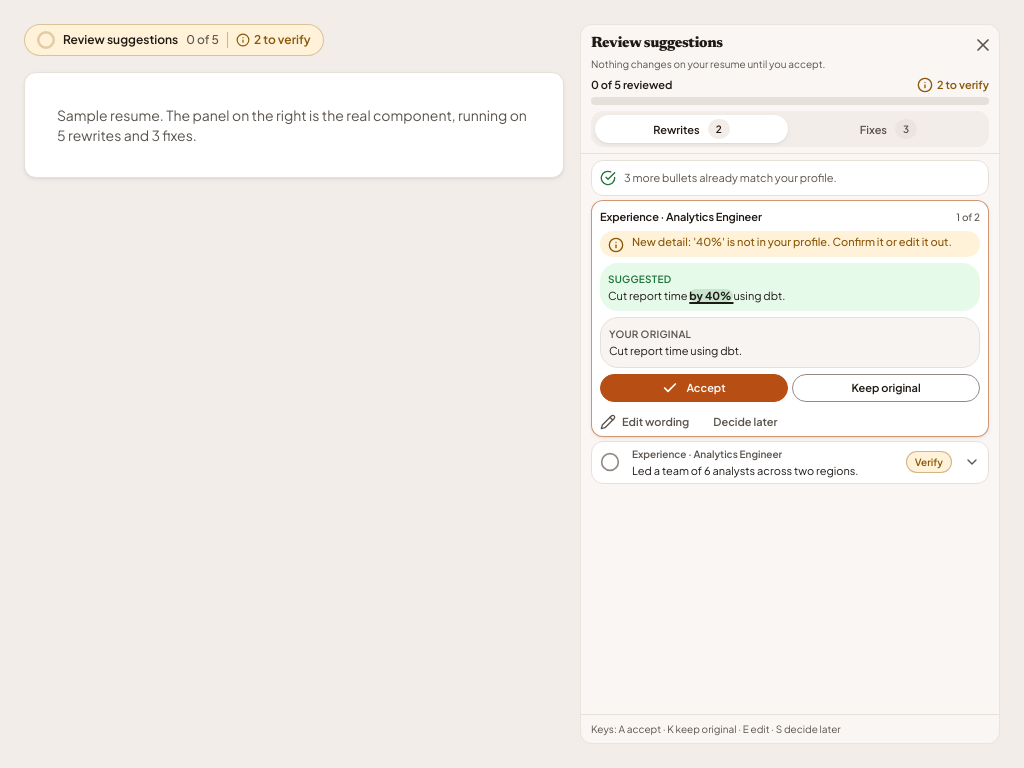
Test: ReviewPanel › Keep original puts the candidate's wording back, and Undo re-opens the card
Click the button "Keep original". click: [886, 388]
box: [792, 374, 980, 402]
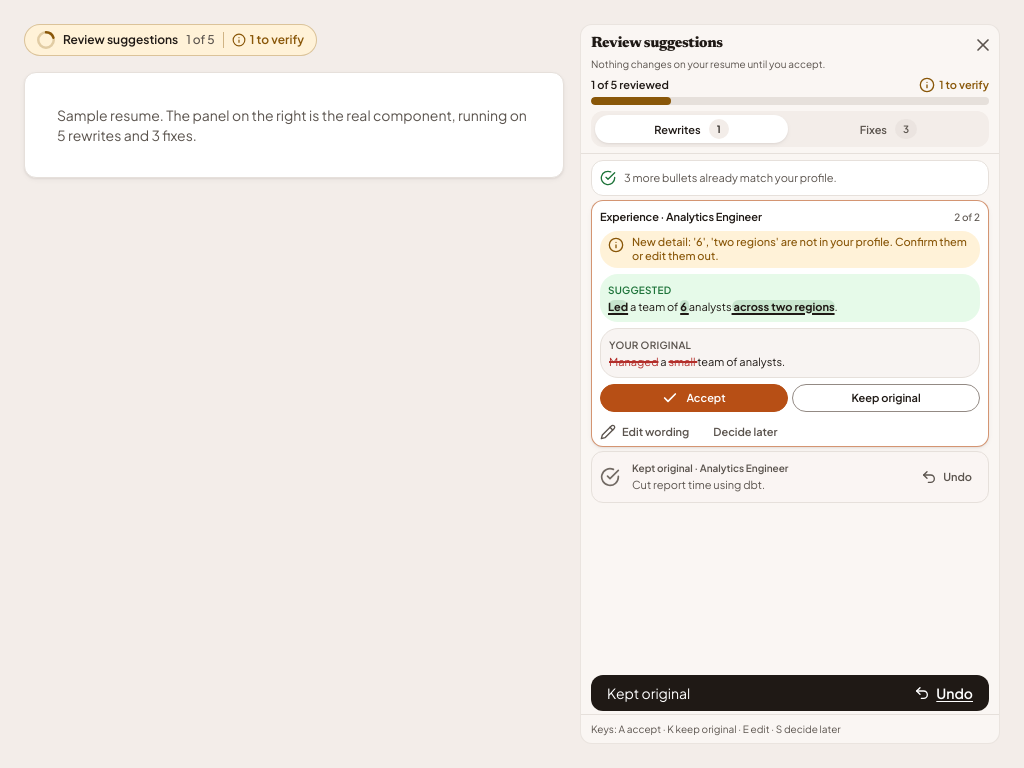
Expected: the text "Cut report time using dbt." is shown, [632, 478, 765, 491]
Expected: the text "Kept original · Analytics Engineer" is shown, [632, 462, 788, 474]
Click the button "Undo" in the row of "Cut report time using dbt.". click: [947, 477]
box: [909, 463, 984, 491]
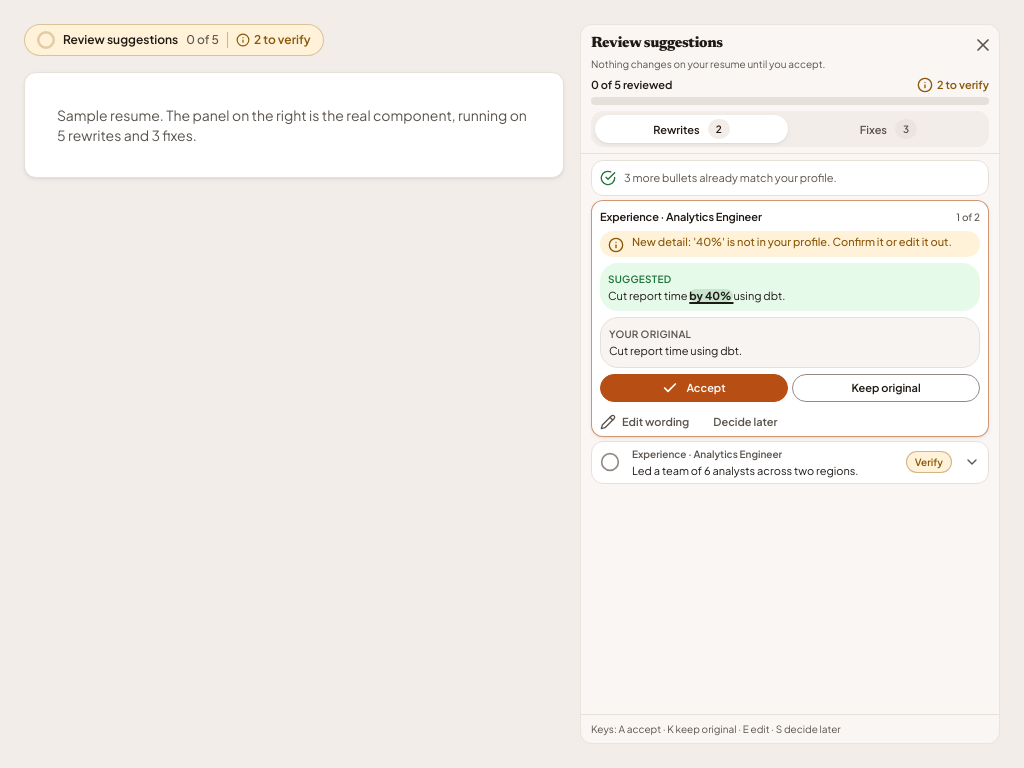
Expected: the text "Kept original" is gone
Expected: the element showing "Cut report time by 40% using dbt." is shown, [608, 289, 785, 302]
Expected: the text "1 of 2" is shown, [956, 209, 980, 225]
